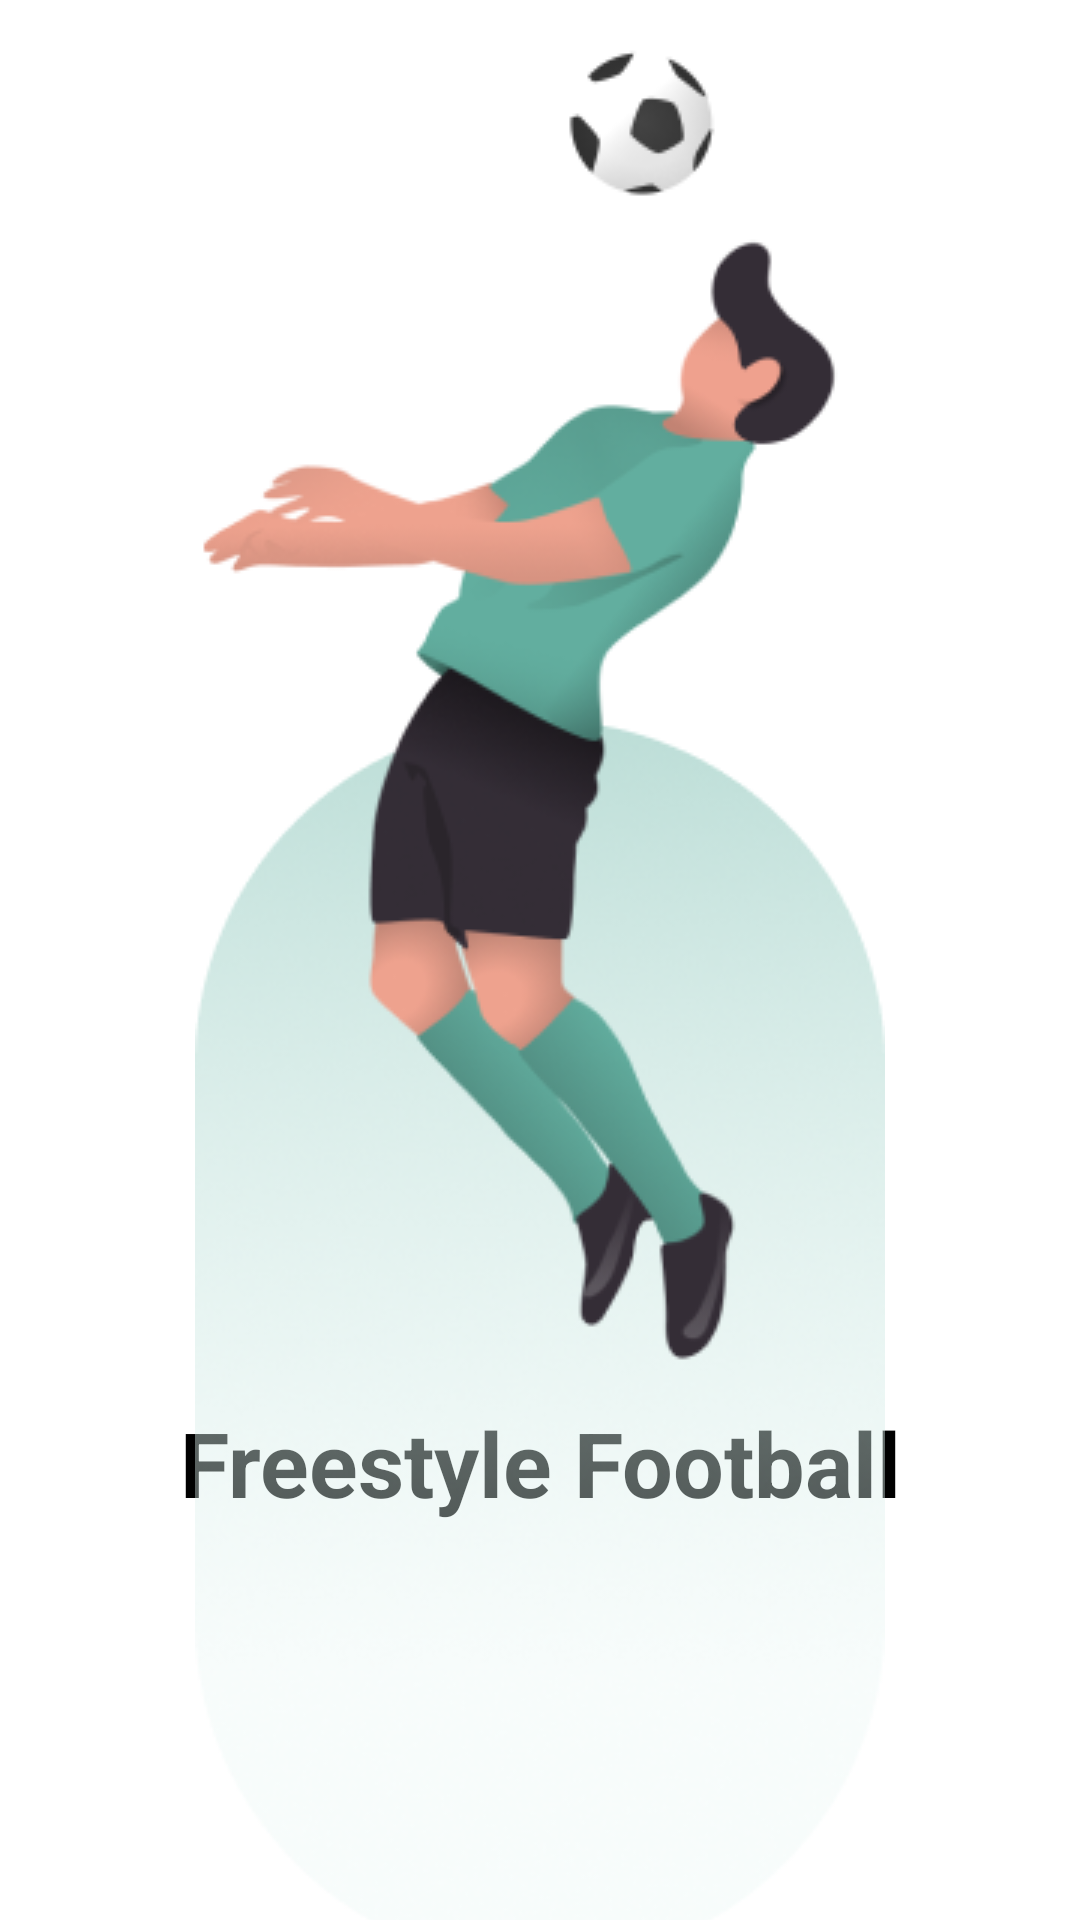

Locate icon controls on the screen. Image size 1080 × 1920, boxes as (x1, y1, x2, y2).
ball: (569, 53, 714, 196)
